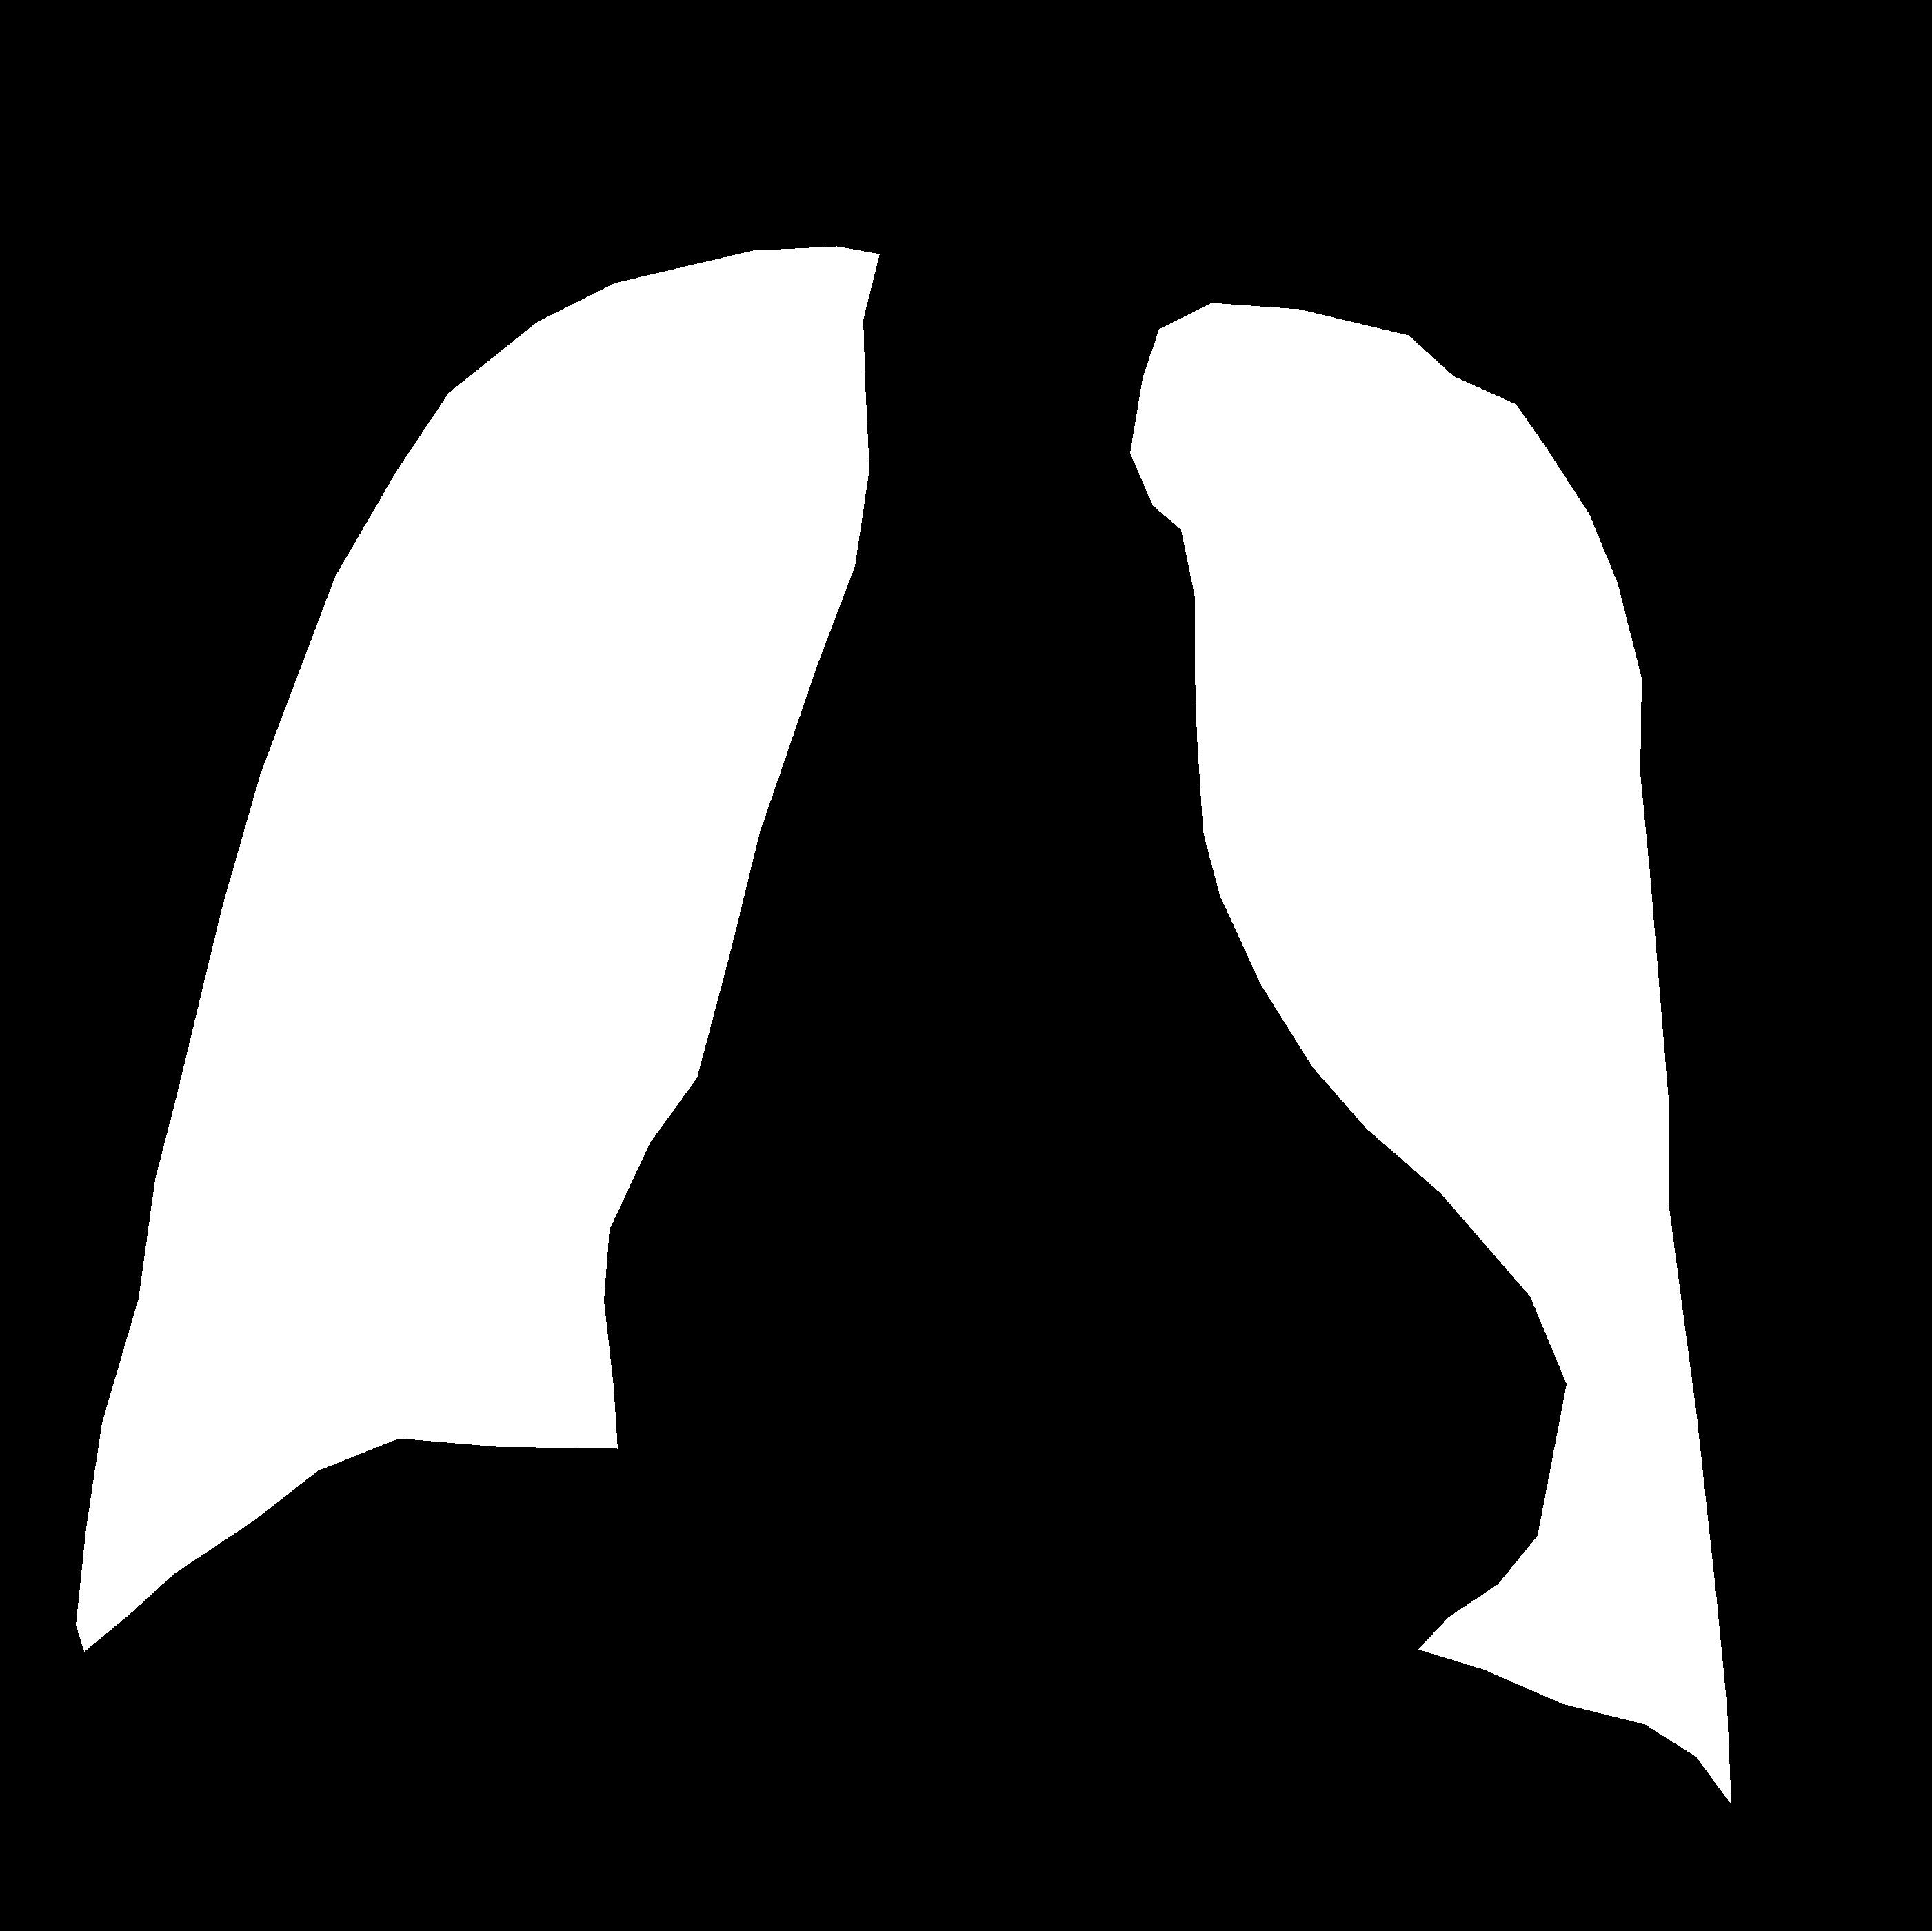heart: (600, 730, 1557, 1652)
left_lung: (76, 246, 879, 1652)
right_lung: (1131, 302, 1730, 1804)
